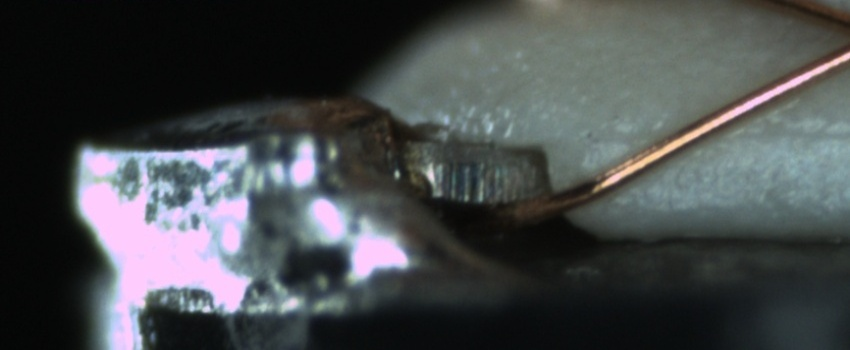CL: (831, 7, 850, 64)
DL: (593, 105, 849, 167)
